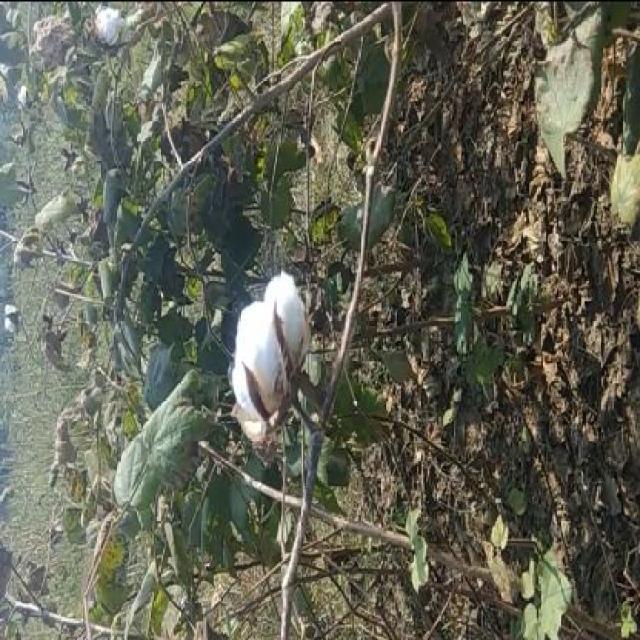cotton_ready: (217, 276, 338, 436)
